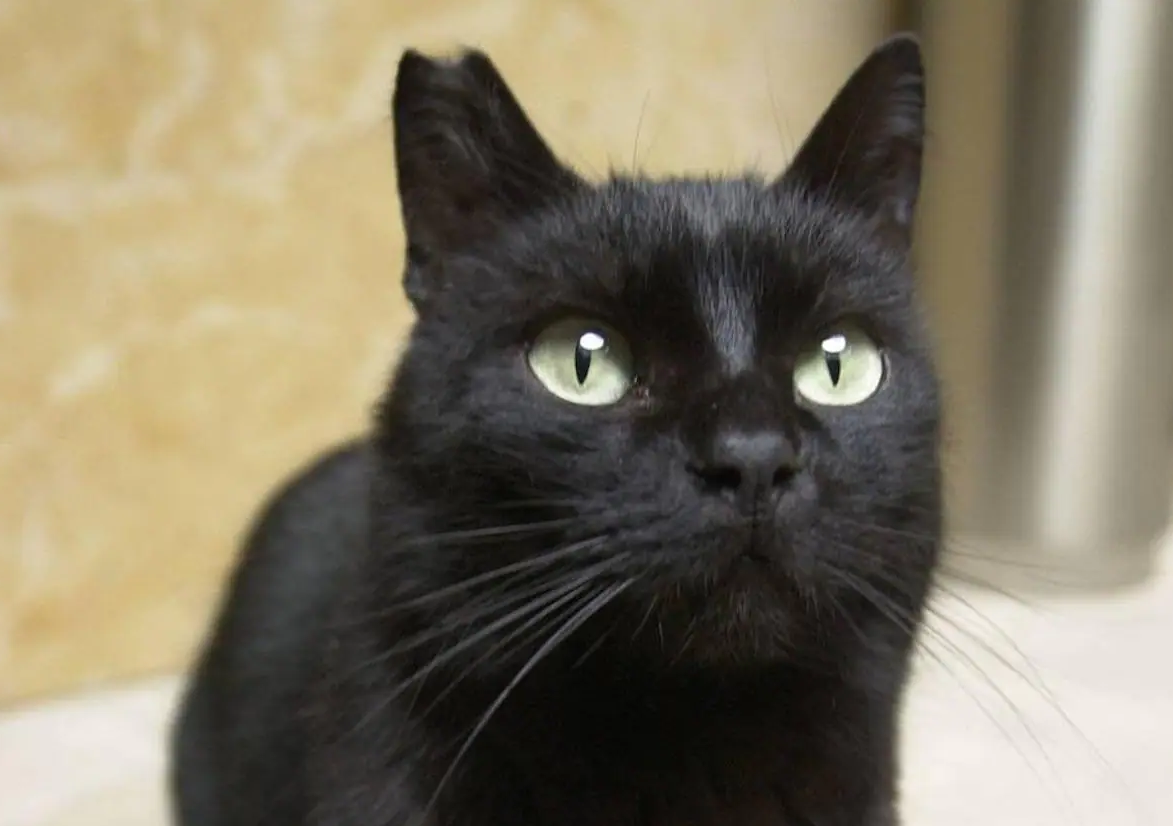gato: (166, 6, 1006, 826)
